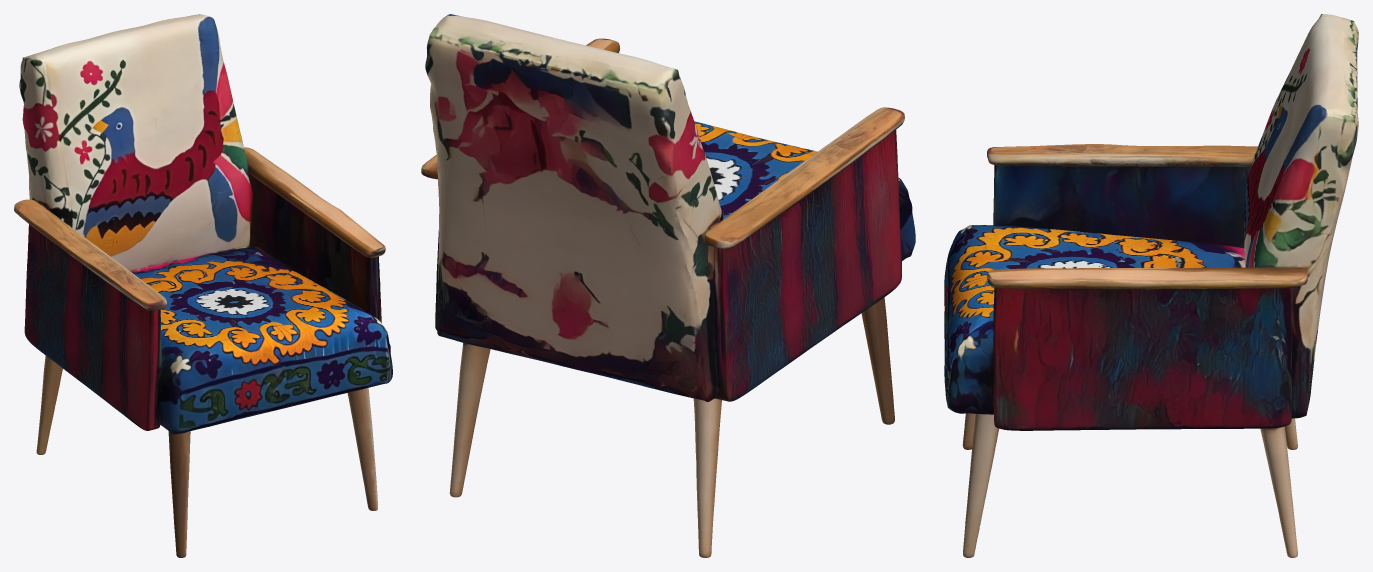
The picture shows the model from 3 angles, left to right: view 1: azimuth 30°, elevation 25°; view 2: azimuth 150°, elevation 25°; view 3: azimuth 270°, elevation 25°; orthographic projection. The views are drawn at different scales.
Parts seen in each view (by area): view 1: model; view 2: model; view 3: model.
Boxes of the visible parts, box(x1,y1,x2,y2) form: model: box(14, 14, 392, 557); model: box(421, 14, 915, 557); model: box(944, 14, 1358, 557).
Bounding box in the file's own units: 0.6113 × 0.92 × 0.7788.
1 material, 1 textured.
